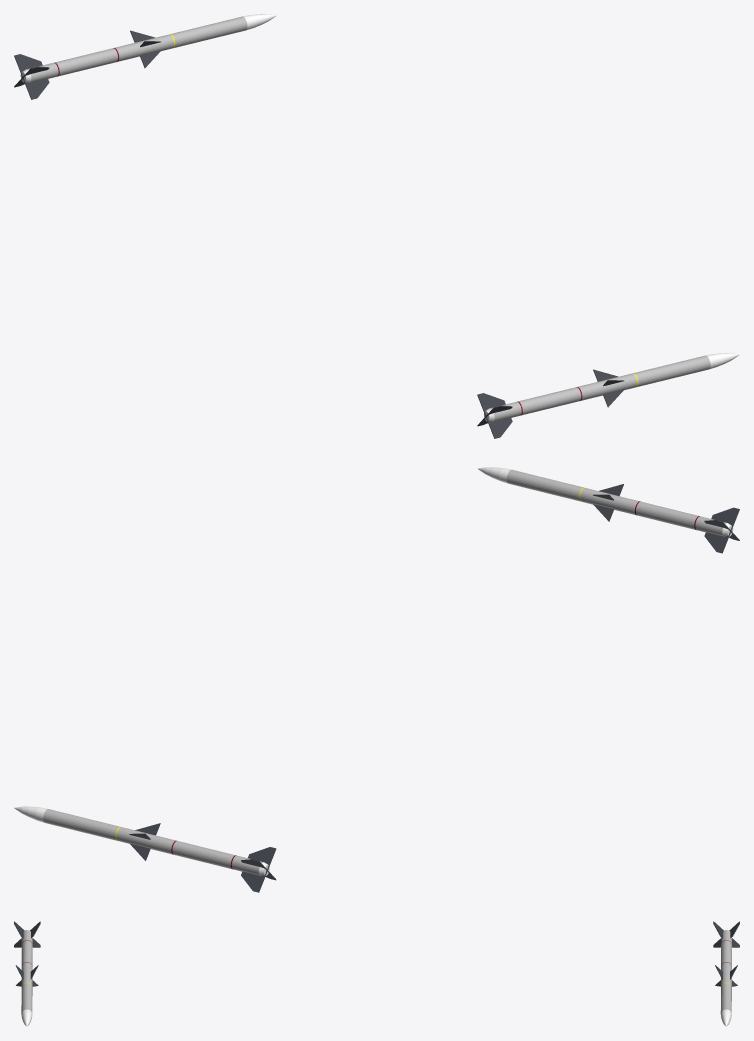
The model's file is aim120fa18e110.glb.
The picture shows the model from 3 angles, top to bottom: view 1: azimuth 30°, elevation 25°; view 2: azimuth 150°, elevation 25°; view 3: azimuth 270°, elevation 25°; orthographic projection. The views are drawn at different scales.
Visible parts, largest first — view 1: 円柱.010, 円柱.001; view 2: 円柱.010, 円柱.001; view 3: 円柱.001, 円柱.010.
Boxes of the visible parts, bbox=[...] form: 円柱.010: bbox=[14, 14, 276, 99]; 円柱.001: bbox=[477, 353, 739, 438]; 円柱.010: bbox=[14, 806, 276, 892]; 円柱.001: bbox=[477, 467, 739, 553]; 円柱.001: bbox=[14, 921, 40, 1026]; 円柱.010: bbox=[713, 921, 739, 1026].
Size of the model in its own units: 4.39 by 0.5295 by 14.4.
Materials: 4 (4 with a texture image).
